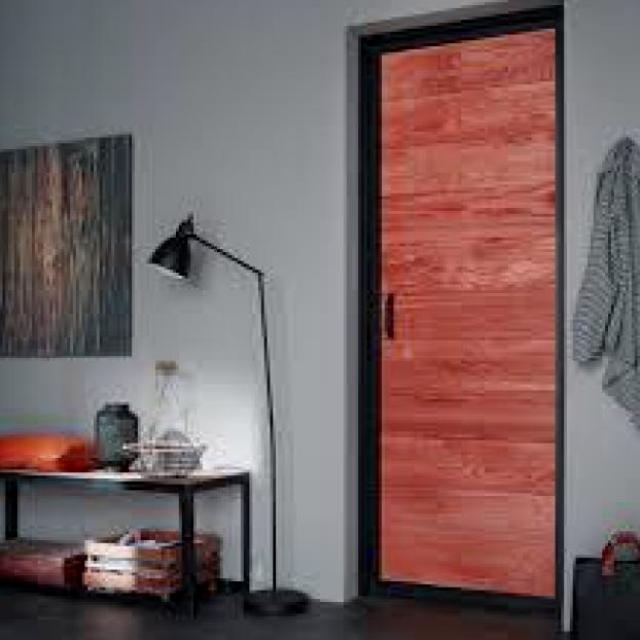door: (360, 6, 561, 603)
